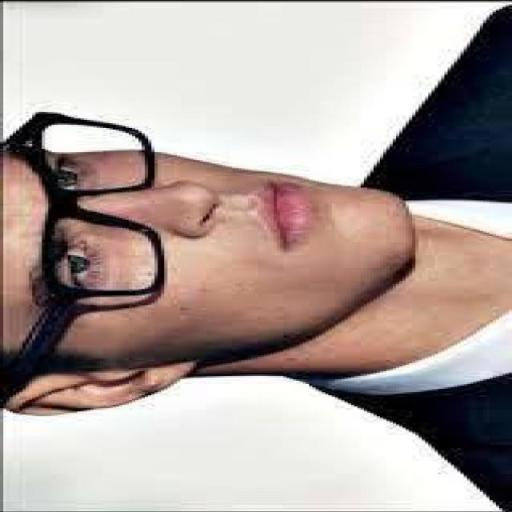glasses: (18, 108, 182, 304)
